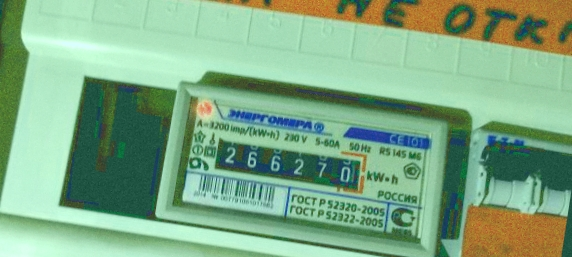0: (336, 162, 350, 184)
2: (221, 143, 238, 165), (290, 155, 305, 177)
6: (243, 148, 258, 170), (267, 152, 282, 172)
7: (313, 159, 328, 179)
screen: (198, 123, 378, 204)
